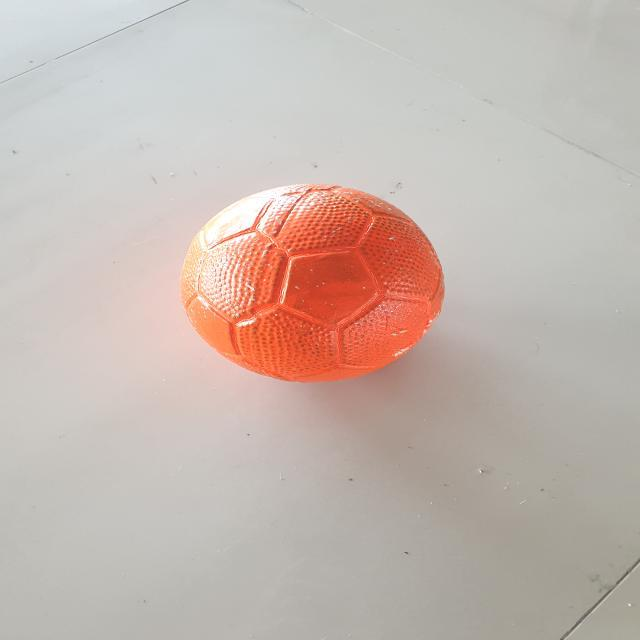bola: (170, 178, 454, 389)
